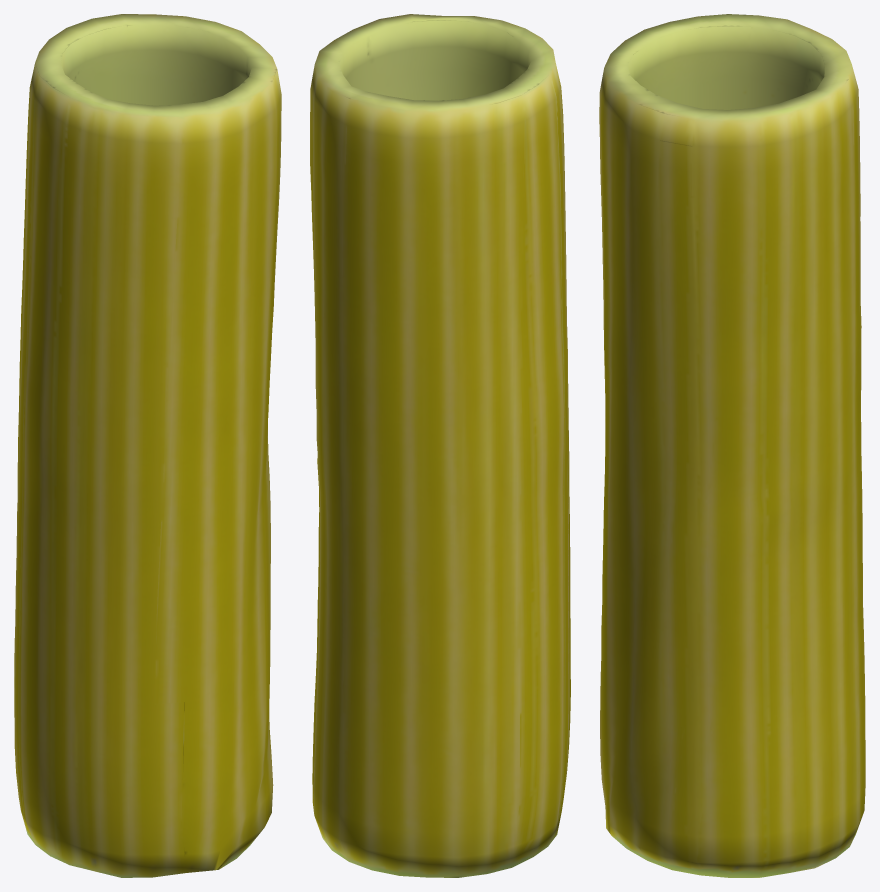
The model's file is Noodle.fbx.
The picture shows the model from 3 angles, left to right: view 1: azimuth 30°, elevation 25°; view 2: azimuth 150°, elevation 25°; view 3: azimuth 270°, elevation 25°; orthographic projection.
Parts seen in each view (by area): view 1: RETOPO; view 2: RETOPO; view 3: RETOPO.
Part boxes in pixels (bbox=[...]): RETOPO: bbox=[14, 14, 281, 877]; RETOPO: bbox=[310, 14, 570, 877]; RETOPO: bbox=[599, 14, 865, 877].
Size of the model in its own units: 35.57 by 115 by 36.03.
1 material, 1 textured.
